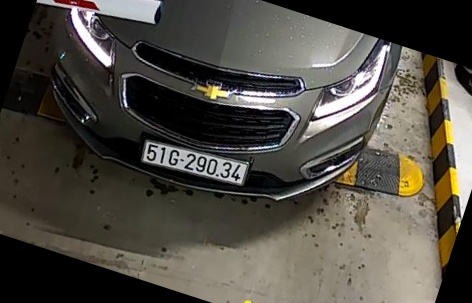plate: (138, 139, 255, 193)
